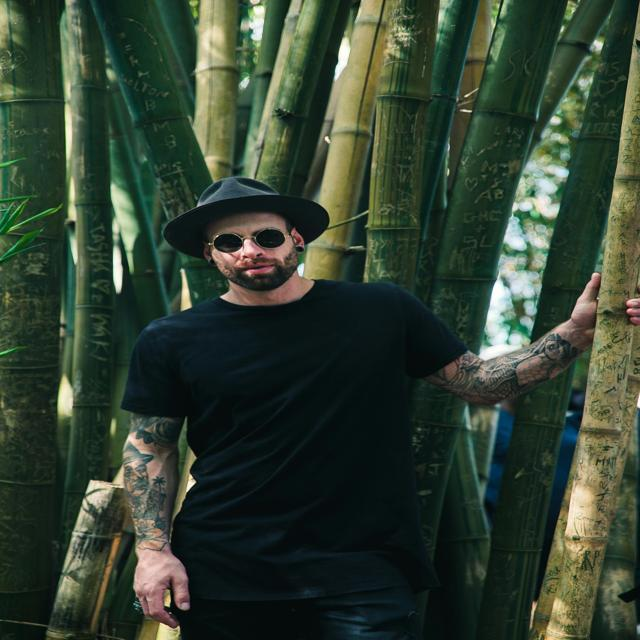2_gafas: (203, 226, 295, 252)
